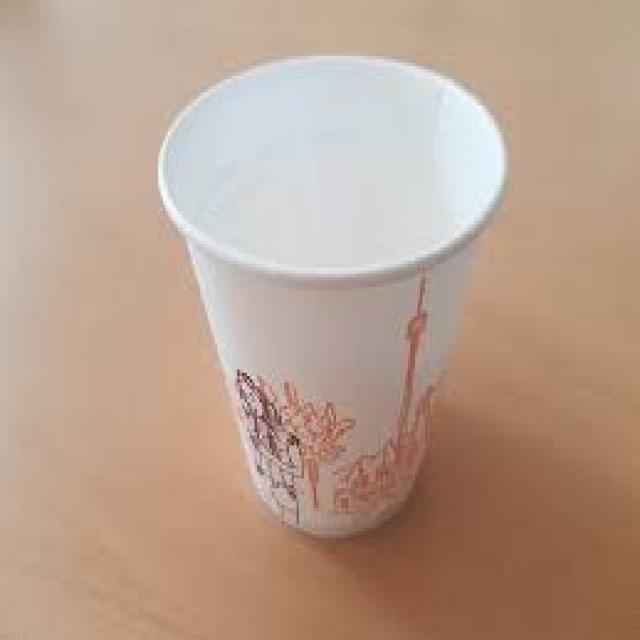trash: (155, 52, 507, 544)
